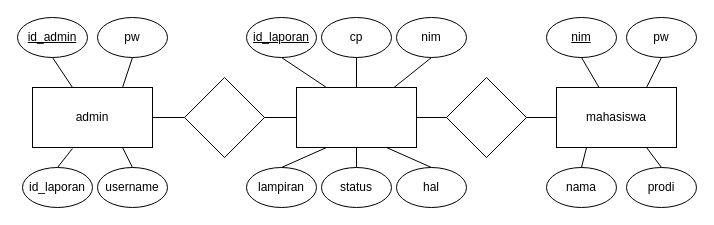
This 714x225 diagram has some shape labels left out. The centre of each missing label's shape, as x and y in pixels:
kelola: the point at 224,117
kirim: the point at 486,117
laporan: the point at 356,117
